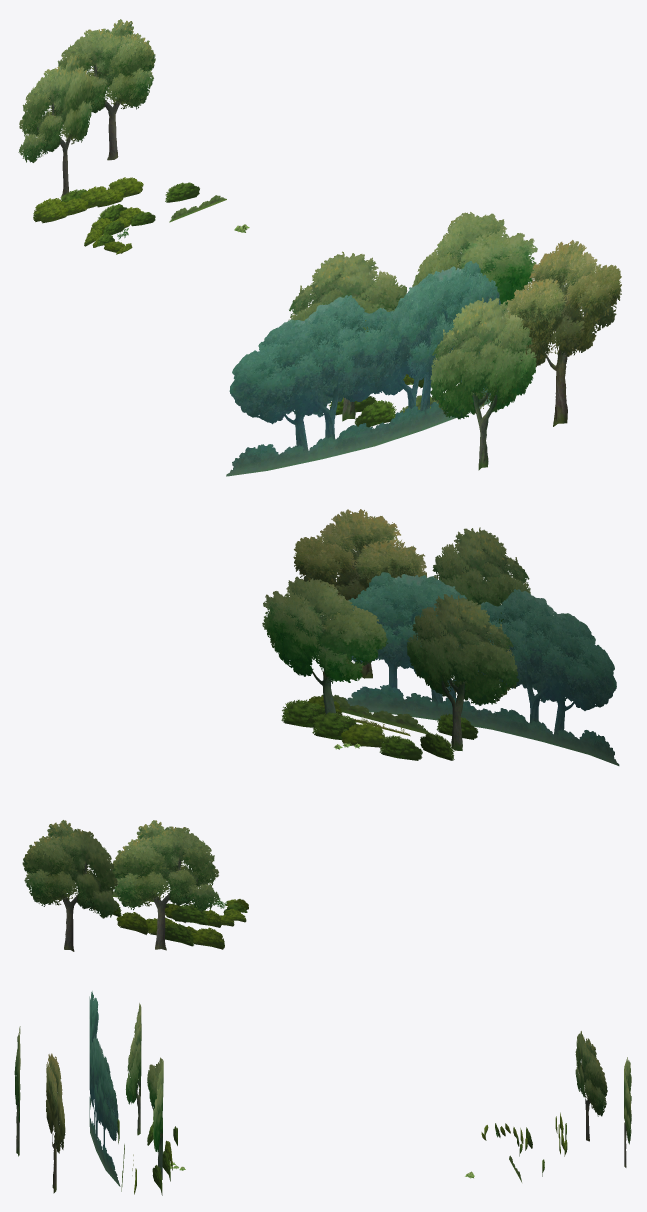
File: closer trees.fbx
3 renders of one model, top to bottom at view 1: azimuth 30°, elevation 25°; view 2: azimuth 150°, elevation 25°; view 3: azimuth 270°, elevation 25°, orthographic. The views are drawn at different scales.
Visible parts, largest first — view 1: polySurface38340; view 2: polySurface38340; view 3: polySurface38340.
Boxes of the visible parts, x1,y1,x2,y2 form: polySurface38340: [18, 19, 621, 476]; polySurface38340: [22, 509, 619, 951]; polySurface38340: [14, 991, 631, 1195].
Bounding box in the file's own units: 342 × 153 × 609.
